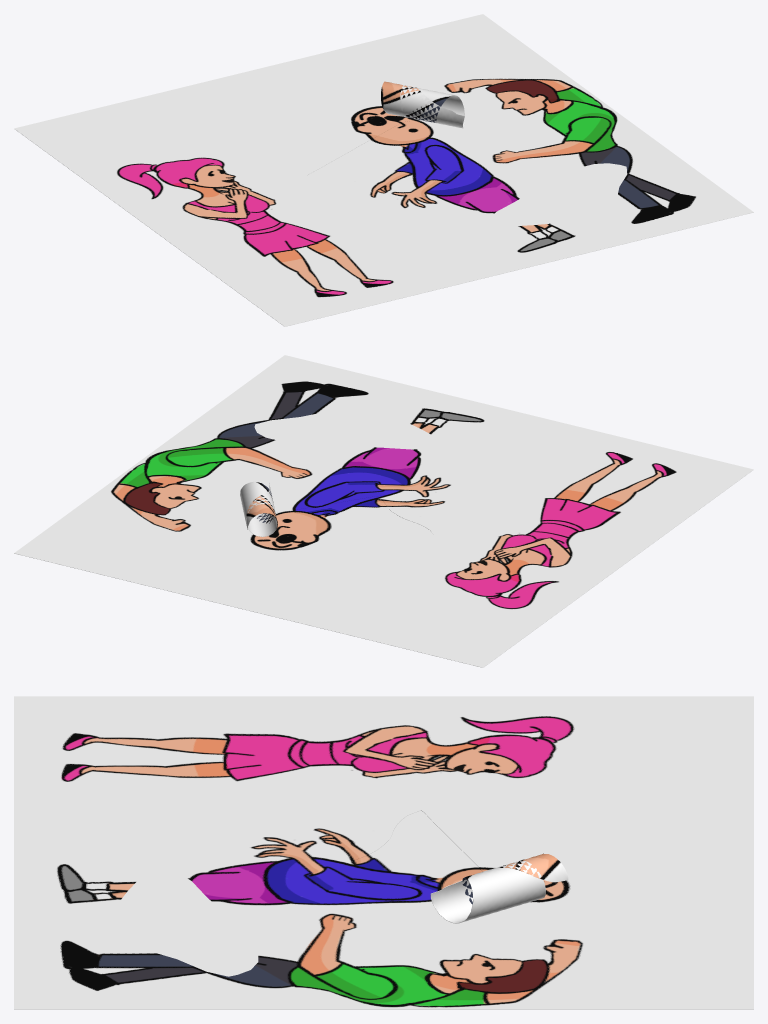
File: Level 26.fbx
3 views of the same model, one above another, from view 1: azimuth 30°, elevation 25°; view 2: azimuth 150°, elevation 25°; view 3: azimuth 270°, elevation 25° (orthographic). The views are drawn at different scales.
Parts seen in each view (by area): view 1: main, BlendMesh; view 2: main, BlendMesh; view 3: main, BlendMesh.
Boxes of the visible parts, box(x1,y1,x2,y2) form: main: box(14, 14, 753, 326); BlendMesh: box(381, 81, 464, 128); main: box(14, 355, 753, 667); BlendMesh: box(240, 481, 277, 536); main: box(14, 696, 753, 1009); BlendMesh: box(430, 853, 568, 923).
Bounding box in the file's own units: 2400 × 139 × 2400.
